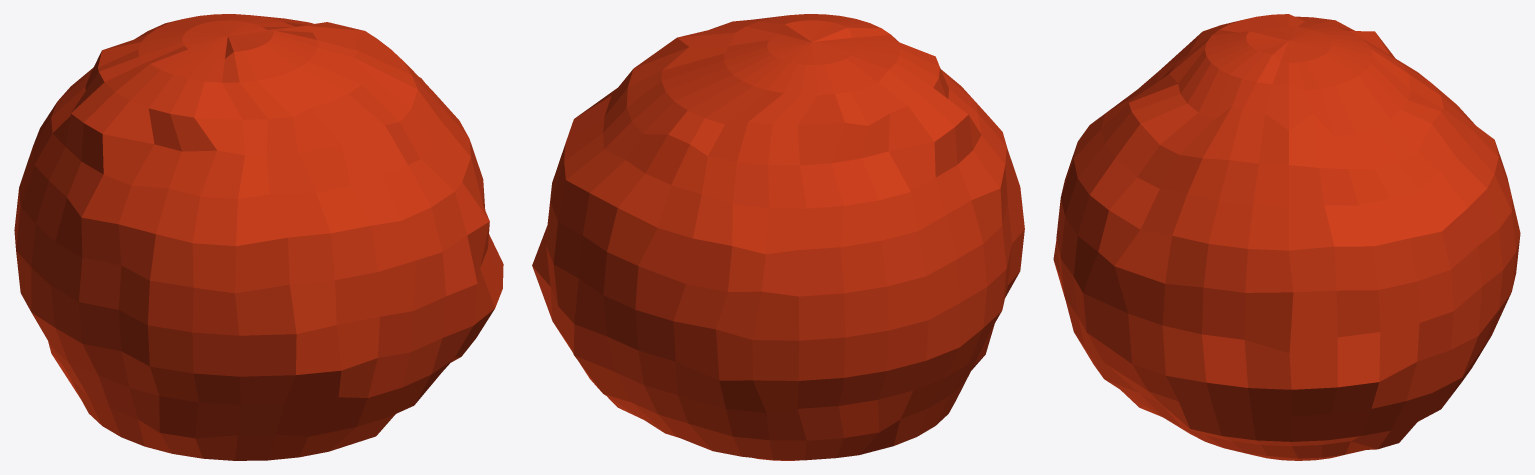
File: rockobj.obj
The picture shows the model from 3 angles, left to right: view 1: azimuth 30°, elevation 25°; view 2: azimuth 150°, elevation 25°; view 3: azimuth 270°, elevation 25°; orthographic projection. The views are drawn at different scales.
Visible parts, largest first — view 1: Sphere; view 2: Sphere; view 3: Sphere.
Boxes of the visible parts, <box> form: Sphere: <box>14,14,503,460</box>; Sphere: <box>532,14,1024,460</box>; Sphere: <box>1053,14,1520,460</box>.
Bounding box in the file's own units: 2.1 × 1.93 × 2.13.
